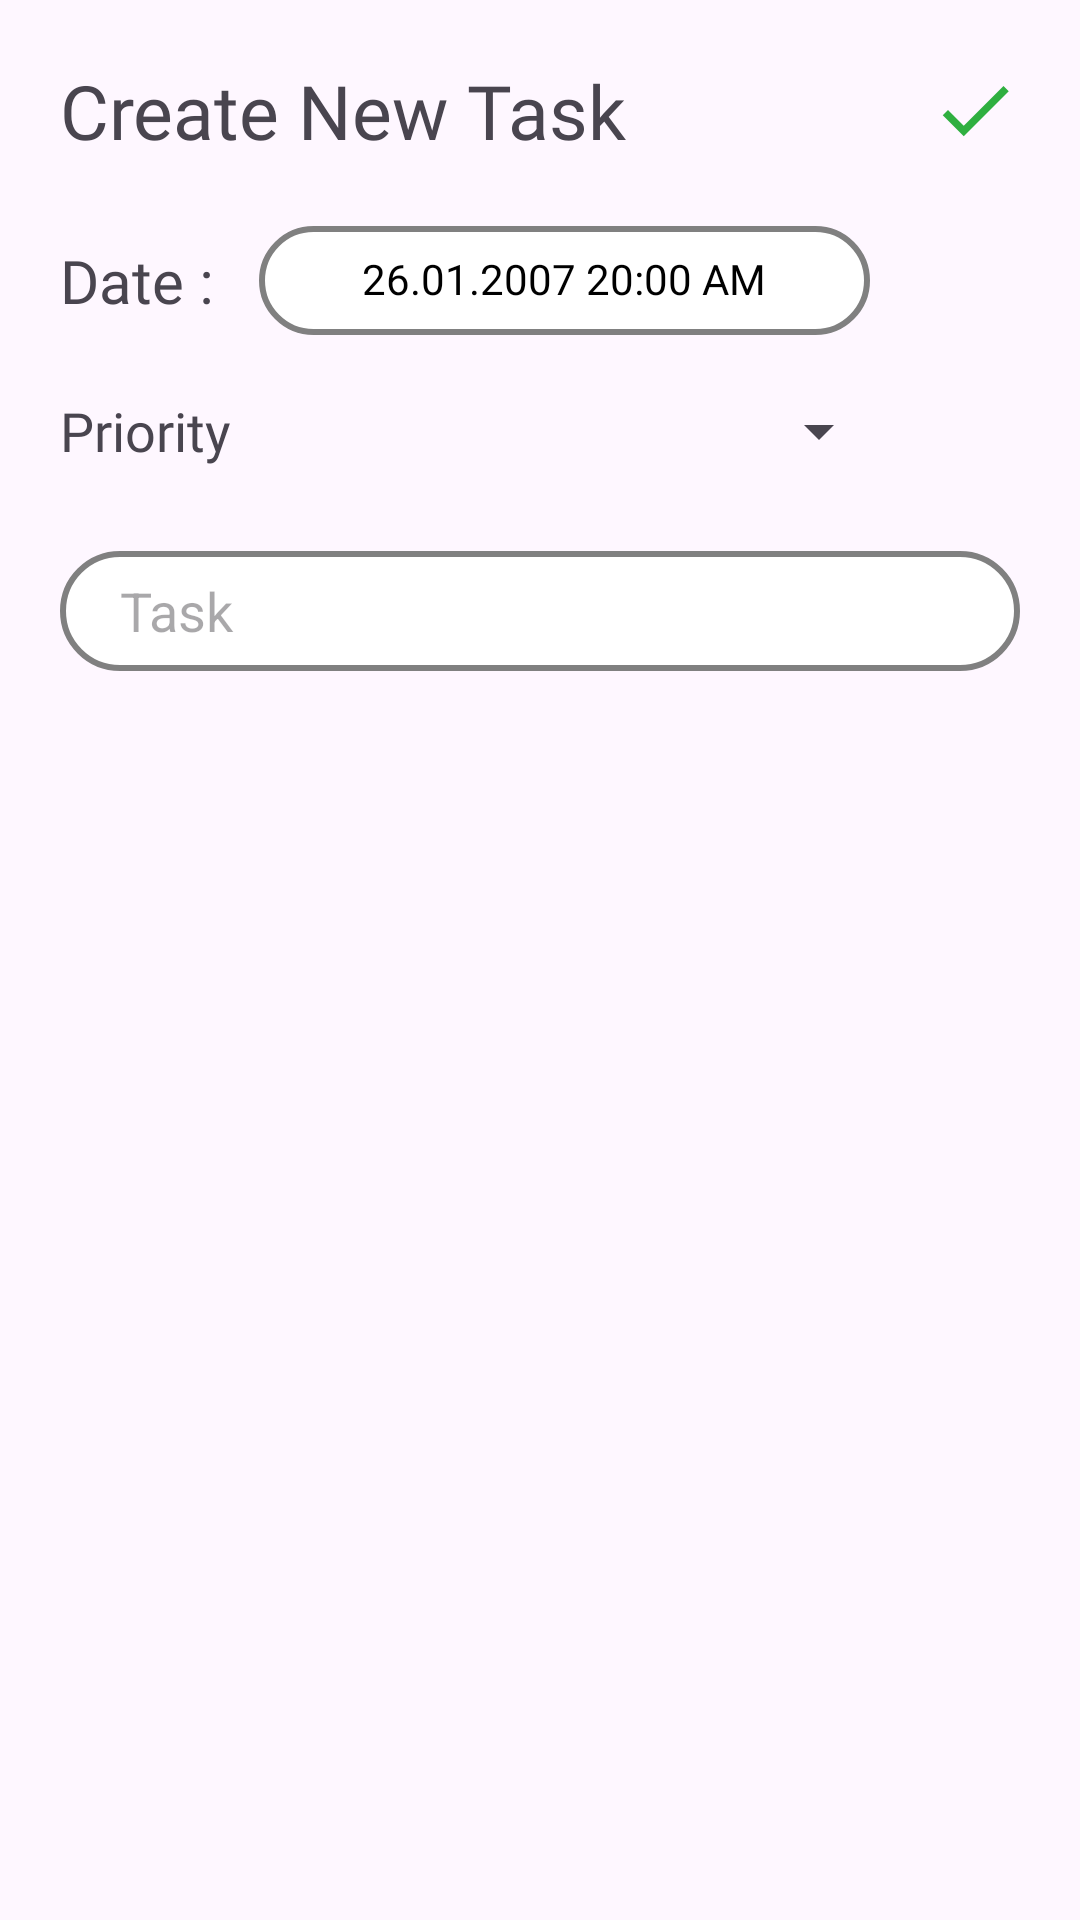

Point at icon controls on the screen. Image size 1080px×1920px, points as point (x, y).
done: point (976, 111)
